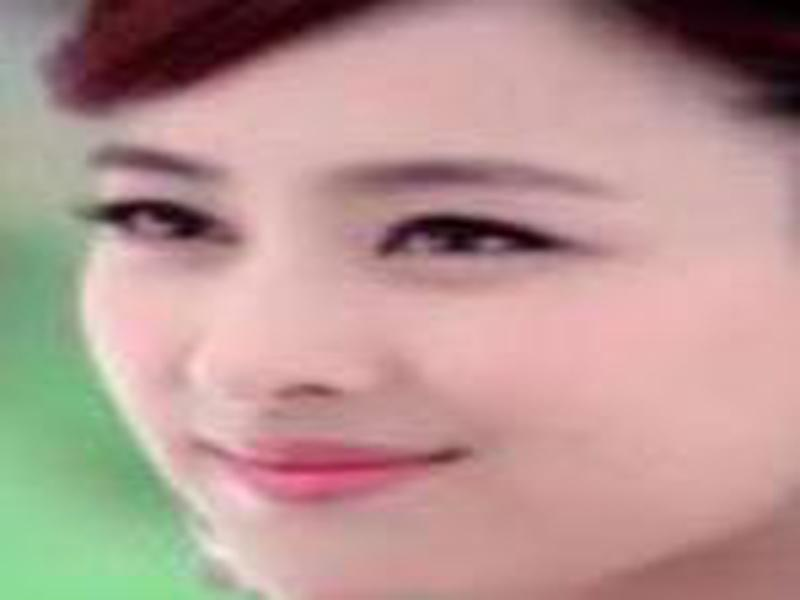without_mask: (72, 67, 800, 600)
